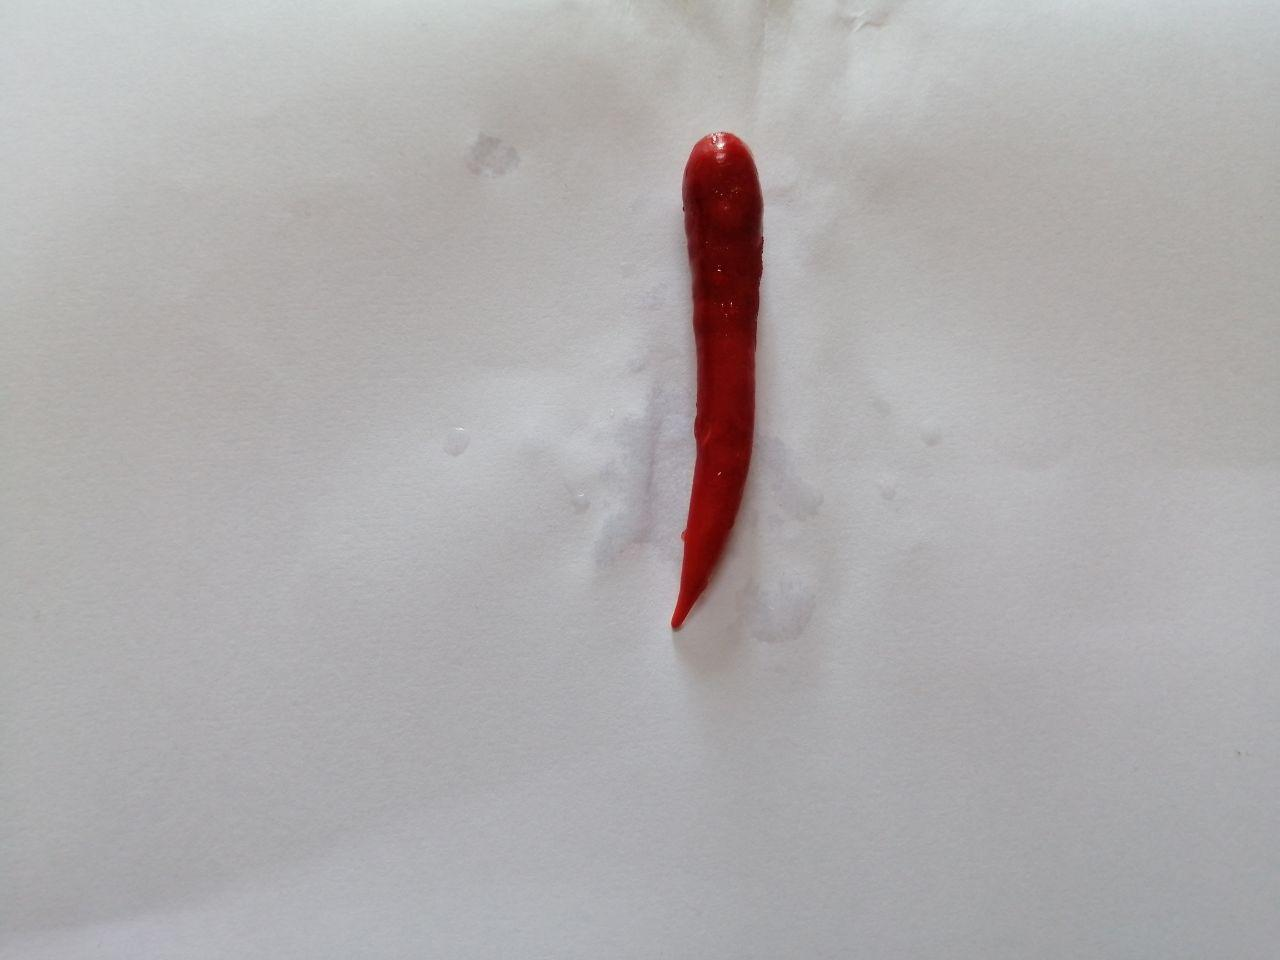lada merah: (621, 108, 793, 647)
